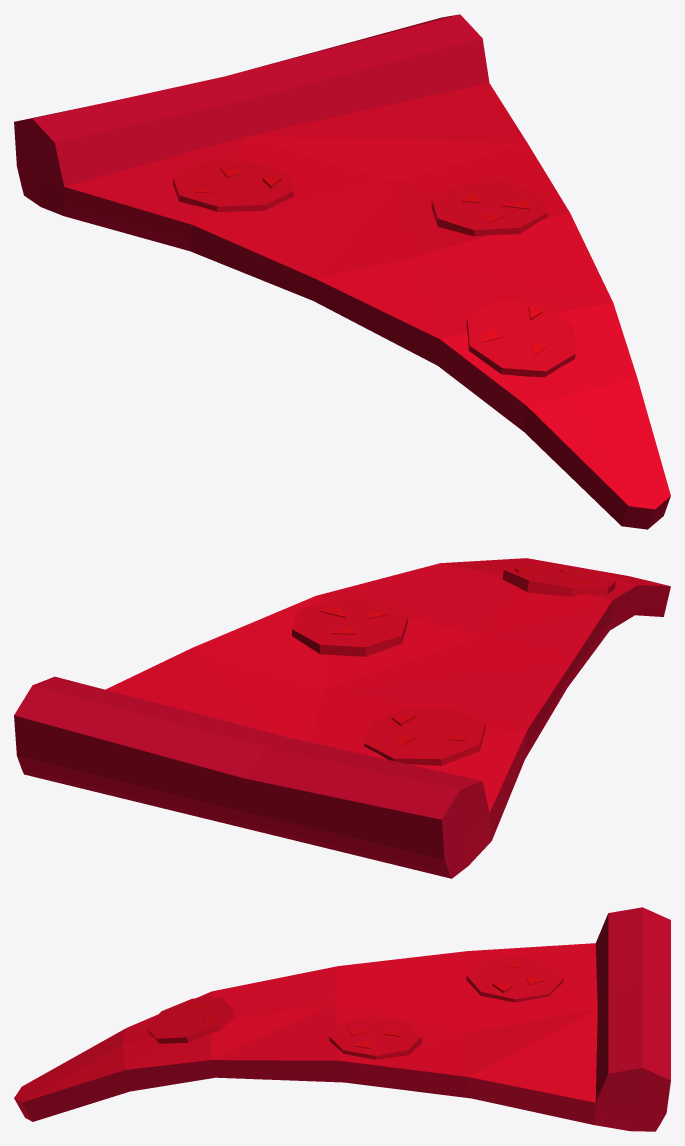
Rendered from PizzaSlice_01.fbx.
3 views of the same model, one above another, from view 1: azimuth 30°, elevation 25°; view 2: azimuth 150°, elevation 25°; view 3: azimuth 270°, elevation 25° (orthographic). The views are drawn at different scales.
Visible parts, largest first — view 1: PizzaSlice_01; view 2: PizzaSlice_01; view 3: PizzaSlice_01.
Boxes of the visible parts, box(x1,y1,x2,y2) form: PizzaSlice_01: box(14, 14, 670, 529); PizzaSlice_01: box(14, 558, 670, 878); PizzaSlice_01: box(14, 907, 670, 1131).
Bounding box in the file's own units: 5.24 × 1.98 × 9.05.
